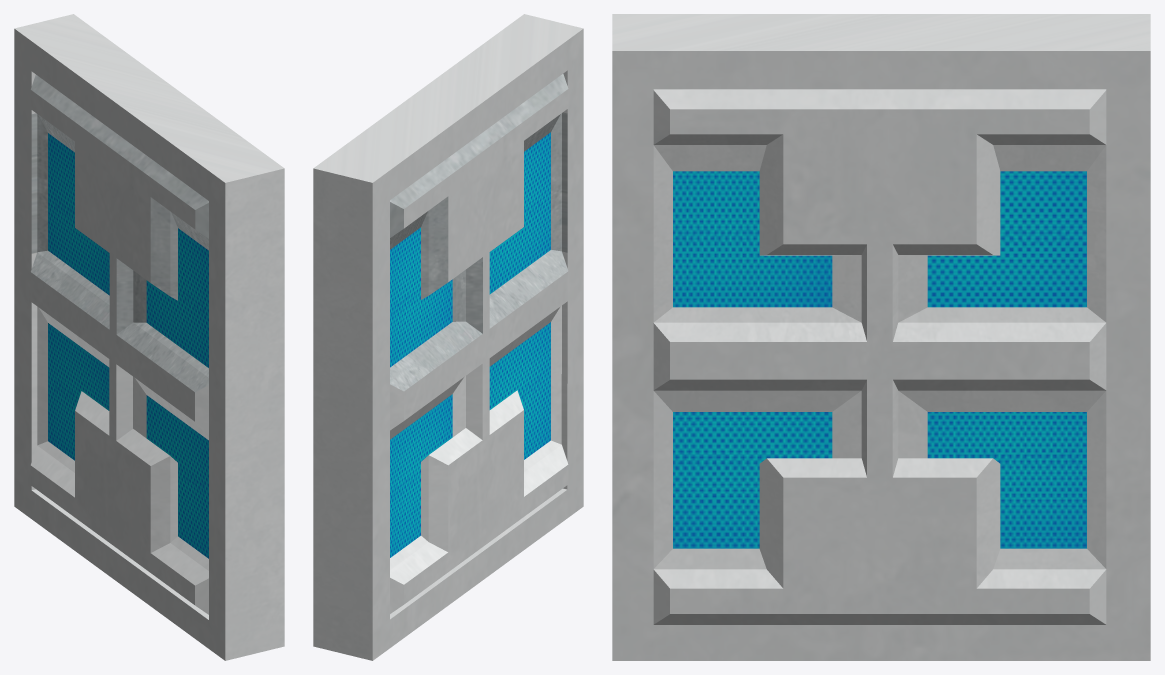
The model's file is Space_SideDoor.FBX.
3 views of the same model, side by side, from view 1: azimuth 30°, elevation 25°; view 2: azimuth 150°, elevation 25°; view 3: azimuth 270°, elevation 25° (orthographic). The views are drawn at different scales.
Visible parts, largest first — view 1: Box001; view 2: Box001; view 3: Box001.
Part boxes in pixels (left/top/right/bottom): Box001: left=14, top=14, right=284, bottom=660; Box001: left=313, top=14, right=583, bottom=660; Box001: left=612, top=14, right=1150, bottom=660.
Size of the model in its own units: 0.8191 by 5 by 4.
